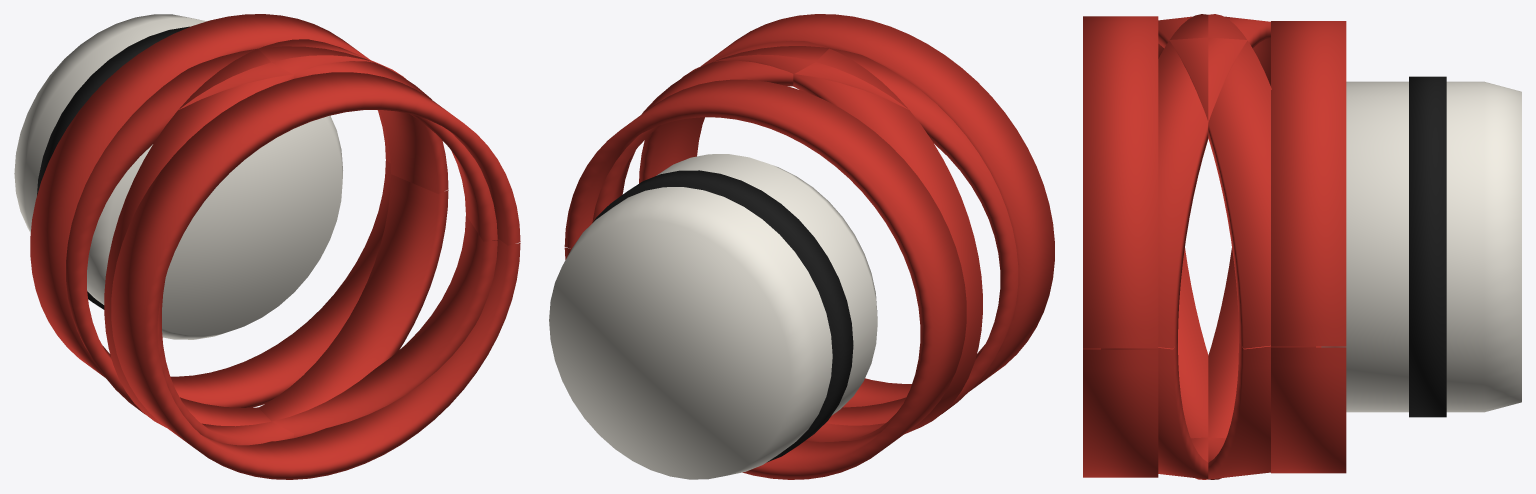
File: Tool_1_HandWraps.glb
3 renders of one model, left to right at view 1: azimuth 30°, elevation 25°; view 2: azimuth 150°, elevation 25°; view 3: azimuth 270°, elevation 25°, orthographic. The views are drawn at different scales.
Visible parts, largest first — view 1: Wraps, Cuff, CuffStripe; view 2: Wraps, Cuff, CuffStripe; view 3: Wraps, Cuff, CuffStripe.
Boxes of the visible parts, x1,y1,x2,y2 form: Wraps: [30, 14, 520, 479]; Cuff: [14, 14, 342, 339]; CuffStripe: [37, 26, 189, 309]; Wraps: [564, 14, 1054, 479]; Cuff: [549, 154, 877, 479]; CuffStripe: [593, 170, 853, 462]; Wraps: [1083, 14, 1346, 479]; Cuff: [1321, 81, 1521, 412]; CuffStripe: [1409, 76, 1446, 417].
Bounding box in the file's own units: 0.1926 × 0.1821 × 0.175.
